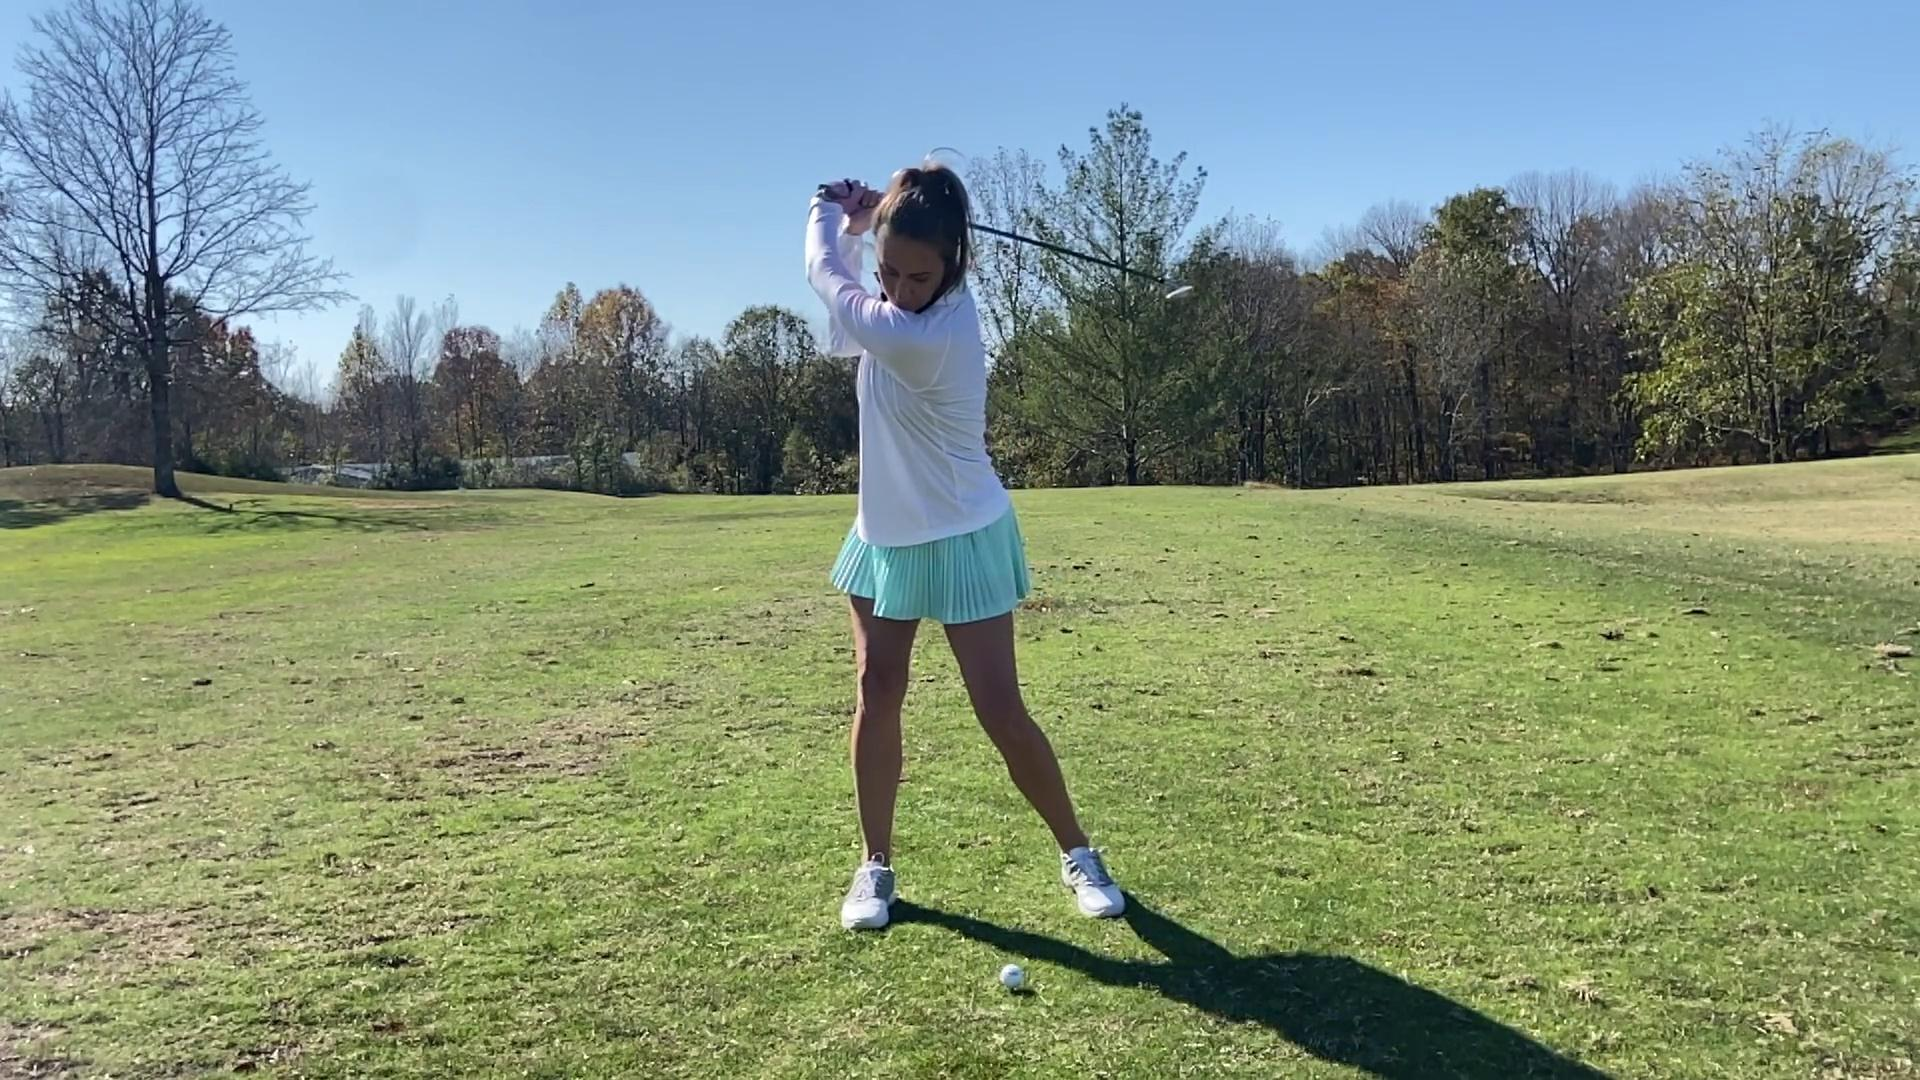ClubHead: (1133, 272, 1203, 309)
GolfBall: (1000, 963, 1025, 990)
